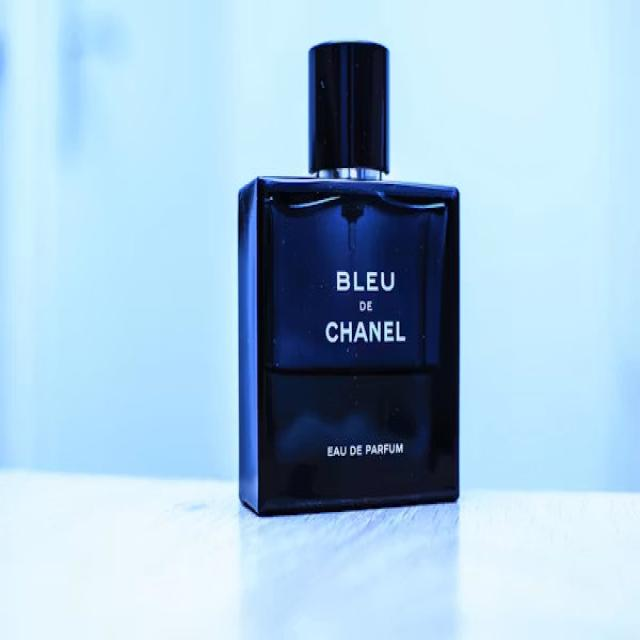Bottle: (239, 42, 458, 513)
